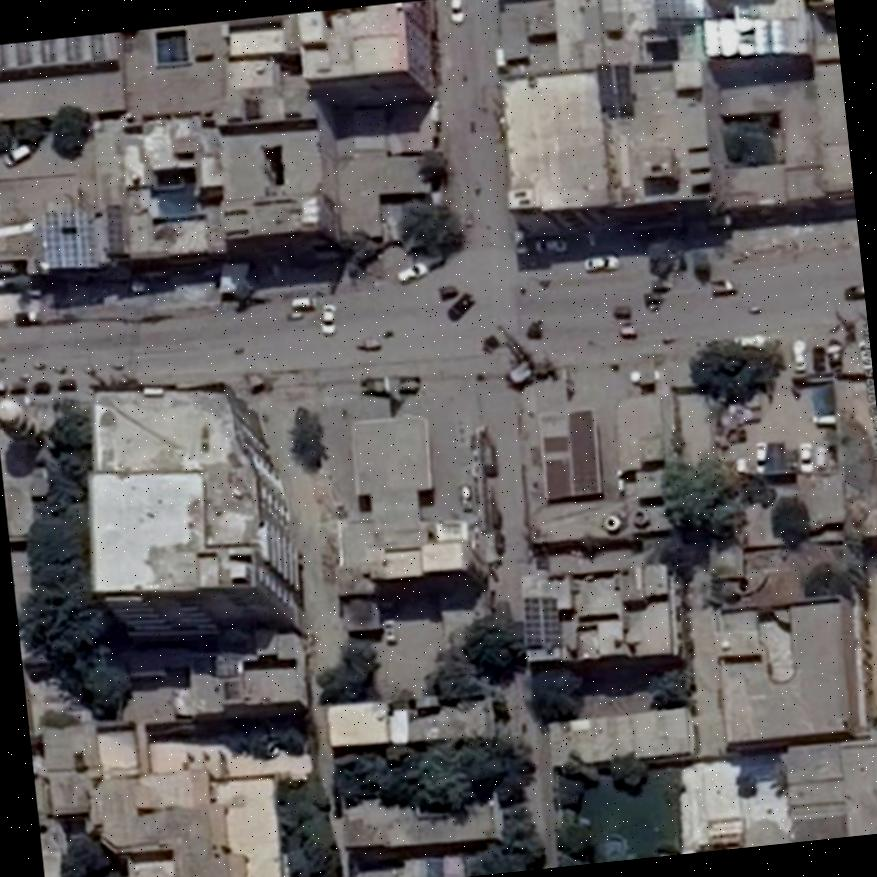Solarpanel: (704, 17, 785, 55), (43, 211, 97, 266), (523, 598, 559, 647), (596, 64, 628, 107), (651, 0, 707, 18)
